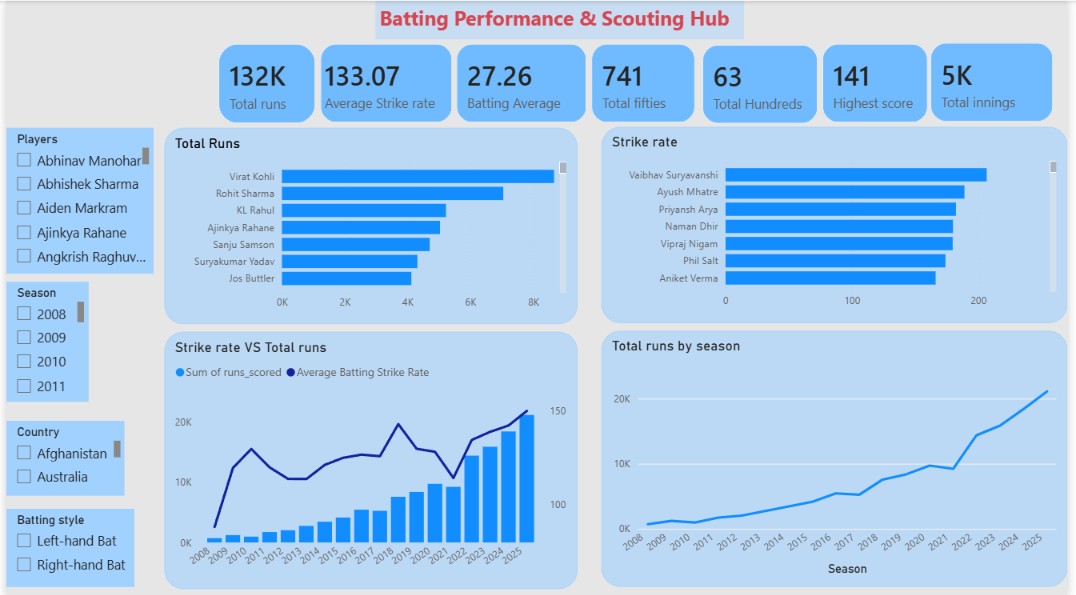

What the dashboard file says about the page in this screenshot:
{"tool":"powerbi","page":{"name":"Batting Performance & Scouting Hub","canvas":[1280,720],"ordinal":1},"visuals":[{"type":"textbox","box":[444.7,0,444.7,46.1],"z":0},{"type":"cardVisual","fields":{"Data":["Sum(BATSMEN.runs_scored)"]},"box":[250.9,47.1,127.9,106.2],"z":1000},{"type":"cardVisual","fields":{"Data":["Avg(BATSMEN.batting_strike_rate)"]},"box":[361.9,35,193,129.1],"z":2000},{"type":"cardVisual","fields":{"Data":["Avg(BATSMEN.batting_average)"]},"box":[526,35,191.8,129.1],"z":3000},{"type":"cardVisual","fields":{"Data":["Sum(BATSMEN.fifties)"]},"box":[688.9,35,159.3,129.1],"z":4000},{"type":"cardVisual","fields":{"Data":["Sum(BATSMEN.hundreds)"]},"box":[822.8,36.2,173.7,129.1],"z":5000},{"type":"cardVisual","fields":{"Data":["Max(BATSMEN.highest_score)"]},"box":[967.6,35,161.7,129.1],"z":6000},{"type":"cardVisual","fields":{"Data":["Sum(BATSMEN.innings)"]},"box":[1097.9,33.8,182.2,129.1],"z":7000},{"type":"slicer","fields":{"Values":["BATSMEN.player_name"]},"box":[0,153.2,177.3,176.1],"z":8000},{"type":"slicer","fields":{"Values":["BATSMEN.season"]},"box":[0,339,177.3,144.8],"z":10000},{"type":"slicer","fields":{"Values":["IPL26.Country"]},"box":[0,506.7,177.3,90.5],"z":11000},{"type":"slicer","fields":{"Values":["IPL26.Batting_Style"]},"box":[0,612.9,177.3,94.1],"z":12000},{"type":"clusteredBarChart","title":"Total Runs","fields":{"Category":["BATSMEN.player_name"],"Y":["Sum(BATSMEN.runs_scored)"]},"box":[190.6,153.2,498.3,236.5],"z":13000},{"type":"clusteredBarChart","title":"Strike rate","fields":{"Category":["BATSMEN.player_name"],"Y":["Avg(BATSMEN.batting_strike_rate)"]},"box":[717.8,152,562.2,236.5],"z":14000},{"type":"lineClusteredColumnComboChart","title":"Strike rate VS Total runs","fields":{"Category":["BATSMEN.season"],"Y":["Sum(BATSMEN.runs_scored)"],"Y2":["Avg(BATSMEN.batting_strike_rate)"]},"box":[190.6,399.3,498.3,310.1],"z":15000},{"type":"lineChart","title":"Total runs by season","fields":{"Category":["BATSMEN.season"],"Y":["Sum(BATSMEN.runs_scored)"]},"box":[717.8,398.1,562.2,308.8],"z":16000}]}

Visuals, with their boxes in screenshot pixels (x1, y1, x2, y2), scaled from the page's 1280x720 canvas onto the 1076x595 screenshot:
textbox: <bbox>374, 0, 748, 38</bbox>
cardVisual - Sum(BATSMEN.runs_scored): <bbox>211, 39, 318, 127</bbox>
cardVisual - Avg(BATSMEN.batting_strike_rate): <bbox>304, 29, 466, 136</bbox>
cardVisual - Avg(BATSMEN.batting_average): <bbox>442, 29, 603, 136</bbox>
cardVisual - Sum(BATSMEN.fifties): <bbox>579, 29, 713, 136</bbox>
cardVisual - Sum(BATSMEN.hundreds): <bbox>692, 30, 838, 137</bbox>
cardVisual - Max(BATSMEN.highest_score): <bbox>813, 29, 949, 136</bbox>
cardVisual - Sum(BATSMEN.innings): <bbox>923, 28, 1075, 135</bbox>
slicer - BATSMEN.player_name: <bbox>0, 127, 149, 272</bbox>
slicer - BATSMEN.season: <bbox>0, 280, 149, 400</bbox>
slicer - IPL26.Country: <bbox>0, 419, 149, 494</bbox>
slicer - IPL26.Batting_Style: <bbox>0, 506, 149, 584</bbox>
"Total Runs" clusteredBarChart: <bbox>160, 127, 579, 322</bbox>
"Strike rate" clusteredBarChart: <bbox>603, 126, 1075, 321</bbox>
"Strike rate VS Total runs" lineClusteredColumnComboChart: <bbox>160, 330, 579, 586</bbox>
"Total runs by season" lineChart: <bbox>603, 329, 1075, 584</bbox>
